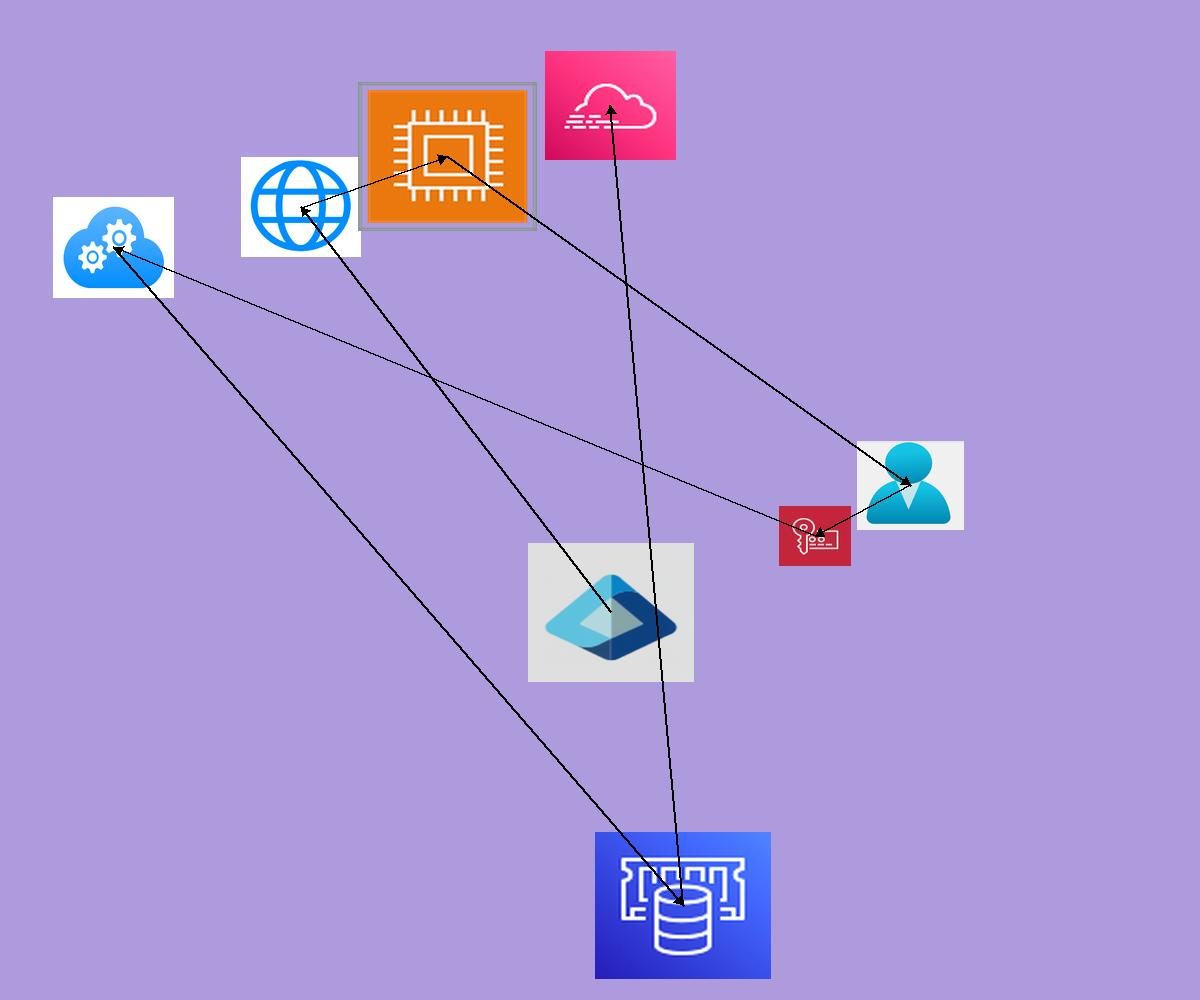AWS-Category_Compute: (358, 82, 537, 231)
AWS-CloudTrail: (545, 51, 676, 160)
AWS-ElastiCache: (595, 832, 771, 979)
AWS-Key-Management-Service: (779, 506, 851, 566)
Azure_cloud_services: (53, 197, 174, 298)
Azure_http: (241, 157, 361, 257)
Azure_microsoft_entra: (528, 543, 694, 682)
Azure_users: (857, 441, 964, 530)
